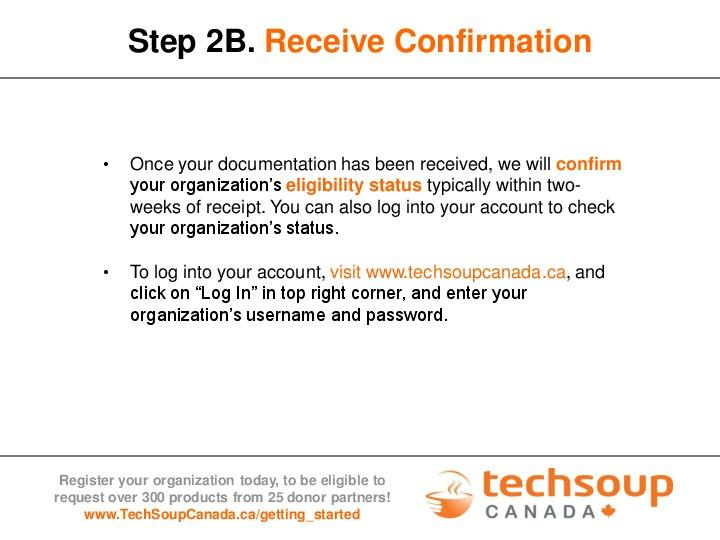paragraph: (78, 129, 664, 358)
subtitle: (50, 456, 406, 536)
title: (124, 6, 607, 71)
